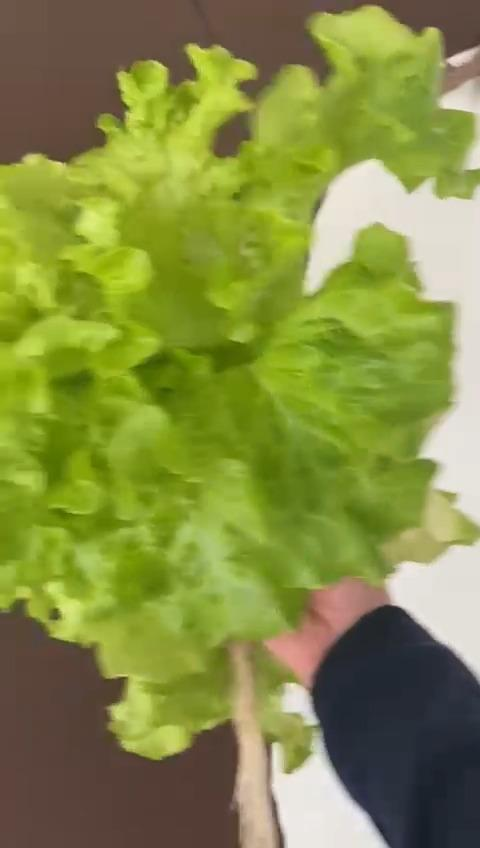Healthy: (0, 2, 480, 773)
